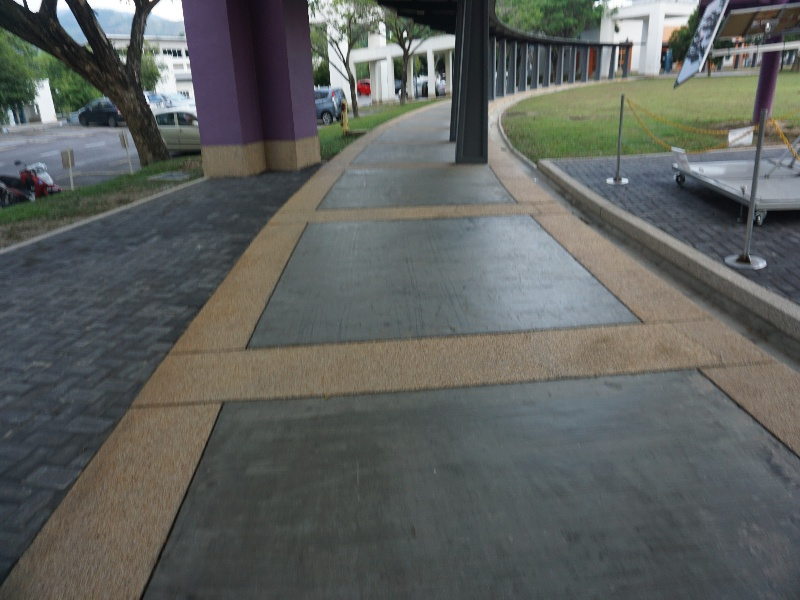pillar: (176, 8, 337, 175)
